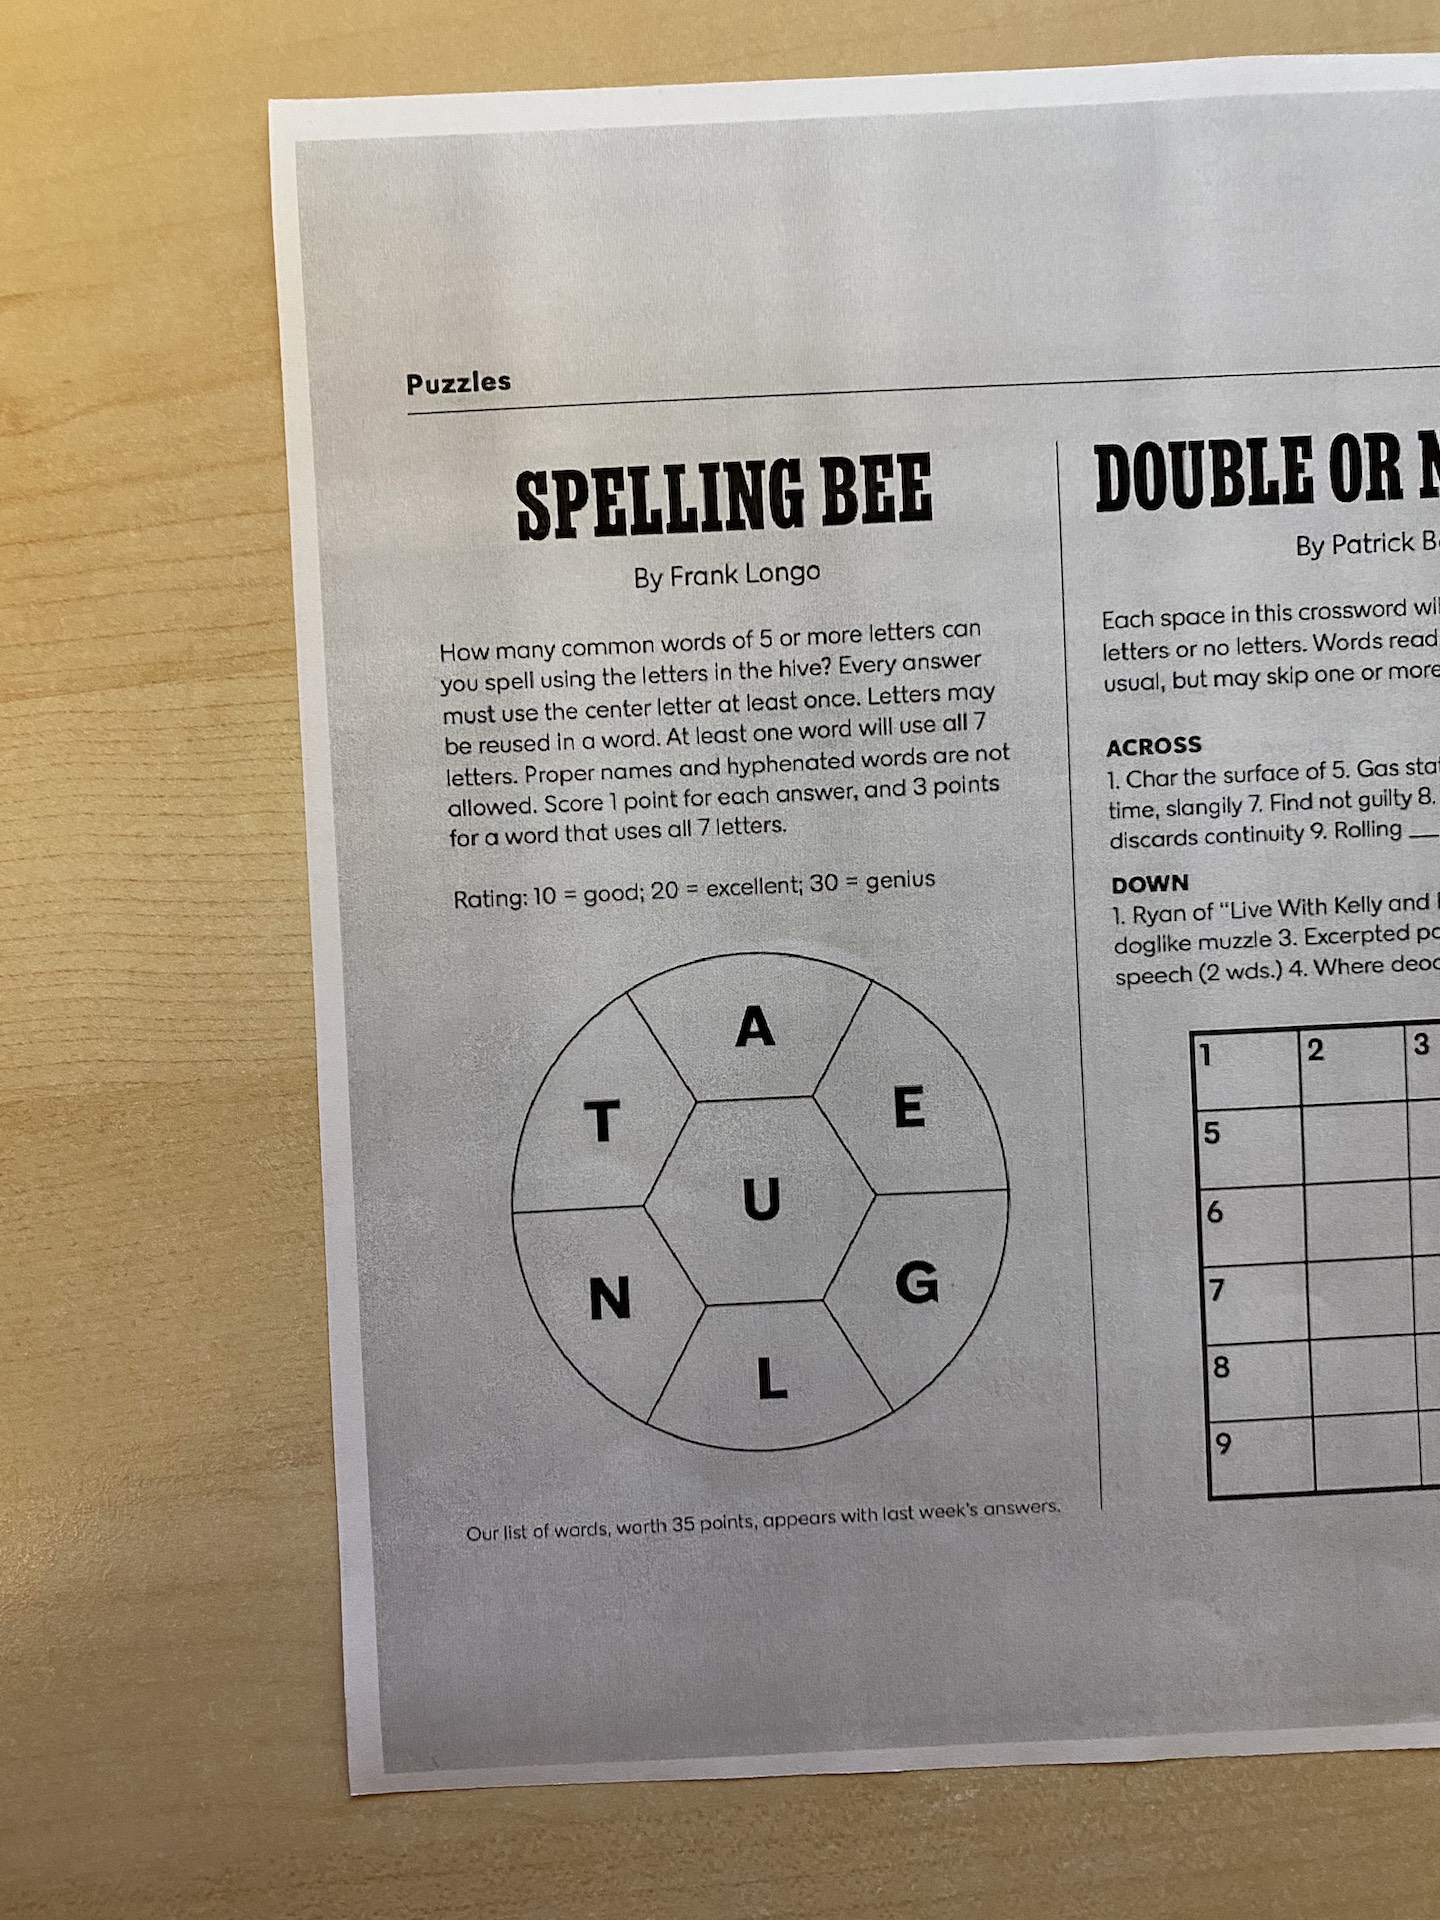Board: (483, 943, 1021, 1473)
